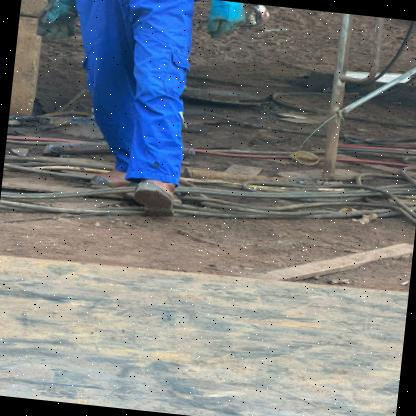bota: (126, 172, 193, 222), (94, 165, 130, 192)
